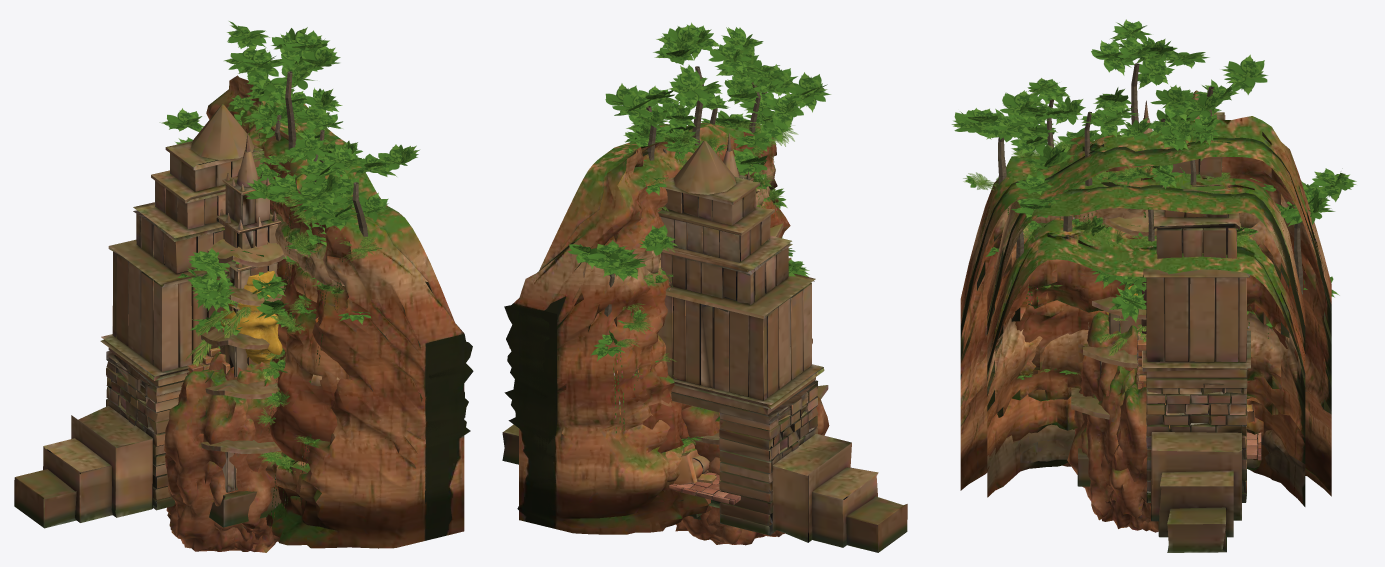
The model's file is kit.mobile.glb.
The picture shows the model from 3 angles, left to right: view 1: azimuth 30°, elevation 25°; view 2: azimuth 150°, elevation 25°; view 3: azimuth 270°, elevation 25°; orthographic projection. The views are drawn at different scales.
Parts seen in each view (by area): view 1: cliff_wall_2, face_gate_0, cliff_wall_2_veg, rock_big_0, cliff_wall_1, temple_1, cliff_wall_1_veg, rock_big_2, temple_0, cliff_wall_0_veg, tree_big_1_crown, face_gate_0_gold (+4 smaller); view 2: cliff_wall_2, face_gate_0, cliff_wall_2_veg, cliff_wall_1_veg, cliff_wall_0_veg, cliff_wall_1, rock_big_1, cliff_wall_2_trees, floor_wide_0, rock_big_2, rock_big_0, column_fallen_0 (+2 smaller); view 3: face_gate_0, cliff_wall_0, cliff_wall_2, cliff_wall_1, cliff_wall_2_veg, rock_big_1, cliff_wall_0_veg, cliff_wall_1_veg, rock_big_2, temple_1, rock_big_0, cliff_wall_2_trees (+2 smaller).
Boxes of the visible parts, x1,y1,x2,y2 form: cliff_wall_2: [206, 75, 473, 548]; face_gate_0: [14, 104, 264, 528]; cliff_wall_2_veg: [159, 21, 419, 527]; rock_big_0: [164, 361, 278, 552]; cliff_wall_1: [269, 196, 348, 515]; temple_1: [201, 239, 285, 527]; cliff_wall_1_veg: [229, 84, 343, 432]; rock_big_2: [175, 353, 276, 551]; temple_0: [217, 133, 280, 379]; cliff_wall_0_veg: [245, 164, 388, 473]; tree_big_1_crown: [177, 248, 288, 318]; face_gate_0_gold: [221, 271, 282, 363]; cliff_wall_2: [504, 123, 790, 534]; face_gate_0: [502, 140, 907, 552]; cliff_wall_2_veg: [567, 22, 830, 433]; cliff_wall_1_veg: [623, 64, 773, 252]; cliff_wall_0_veg: [622, 92, 791, 447]; cliff_wall_1: [642, 165, 769, 452]; rock_big_1: [675, 406, 783, 545]; cliff_wall_2_trees: [604, 66, 767, 316]; floor_wide_0: [669, 472, 740, 504]; rock_big_2: [695, 412, 784, 544]; rock_big_0: [681, 396, 829, 536]; column_fallen_0: [674, 452, 709, 484]; face_gate_0: [1142, 90, 1250, 552]; cliff_wall_0: [987, 218, 1305, 506]; cliff_wall_2: [960, 116, 1331, 496]; cliff_wall_1: [987, 167, 1305, 477]; cliff_wall_2_veg: [951, 19, 1356, 297]; rock_big_1: [1075, 312, 1158, 530]; cliff_wall_0_veg: [985, 123, 1272, 400]; cliff_wall_1_veg: [1053, 86, 1231, 224]; rock_big_2: [1067, 366, 1170, 530]; temple_1: [1071, 216, 1209, 486]; rock_big_0: [1074, 315, 1165, 532]; cliff_wall_2_trees: [998, 63, 1302, 294].
Bounding box in the file's own units: 31.21 × 38.53 × 30.14.
12 materials, 12 textured.
